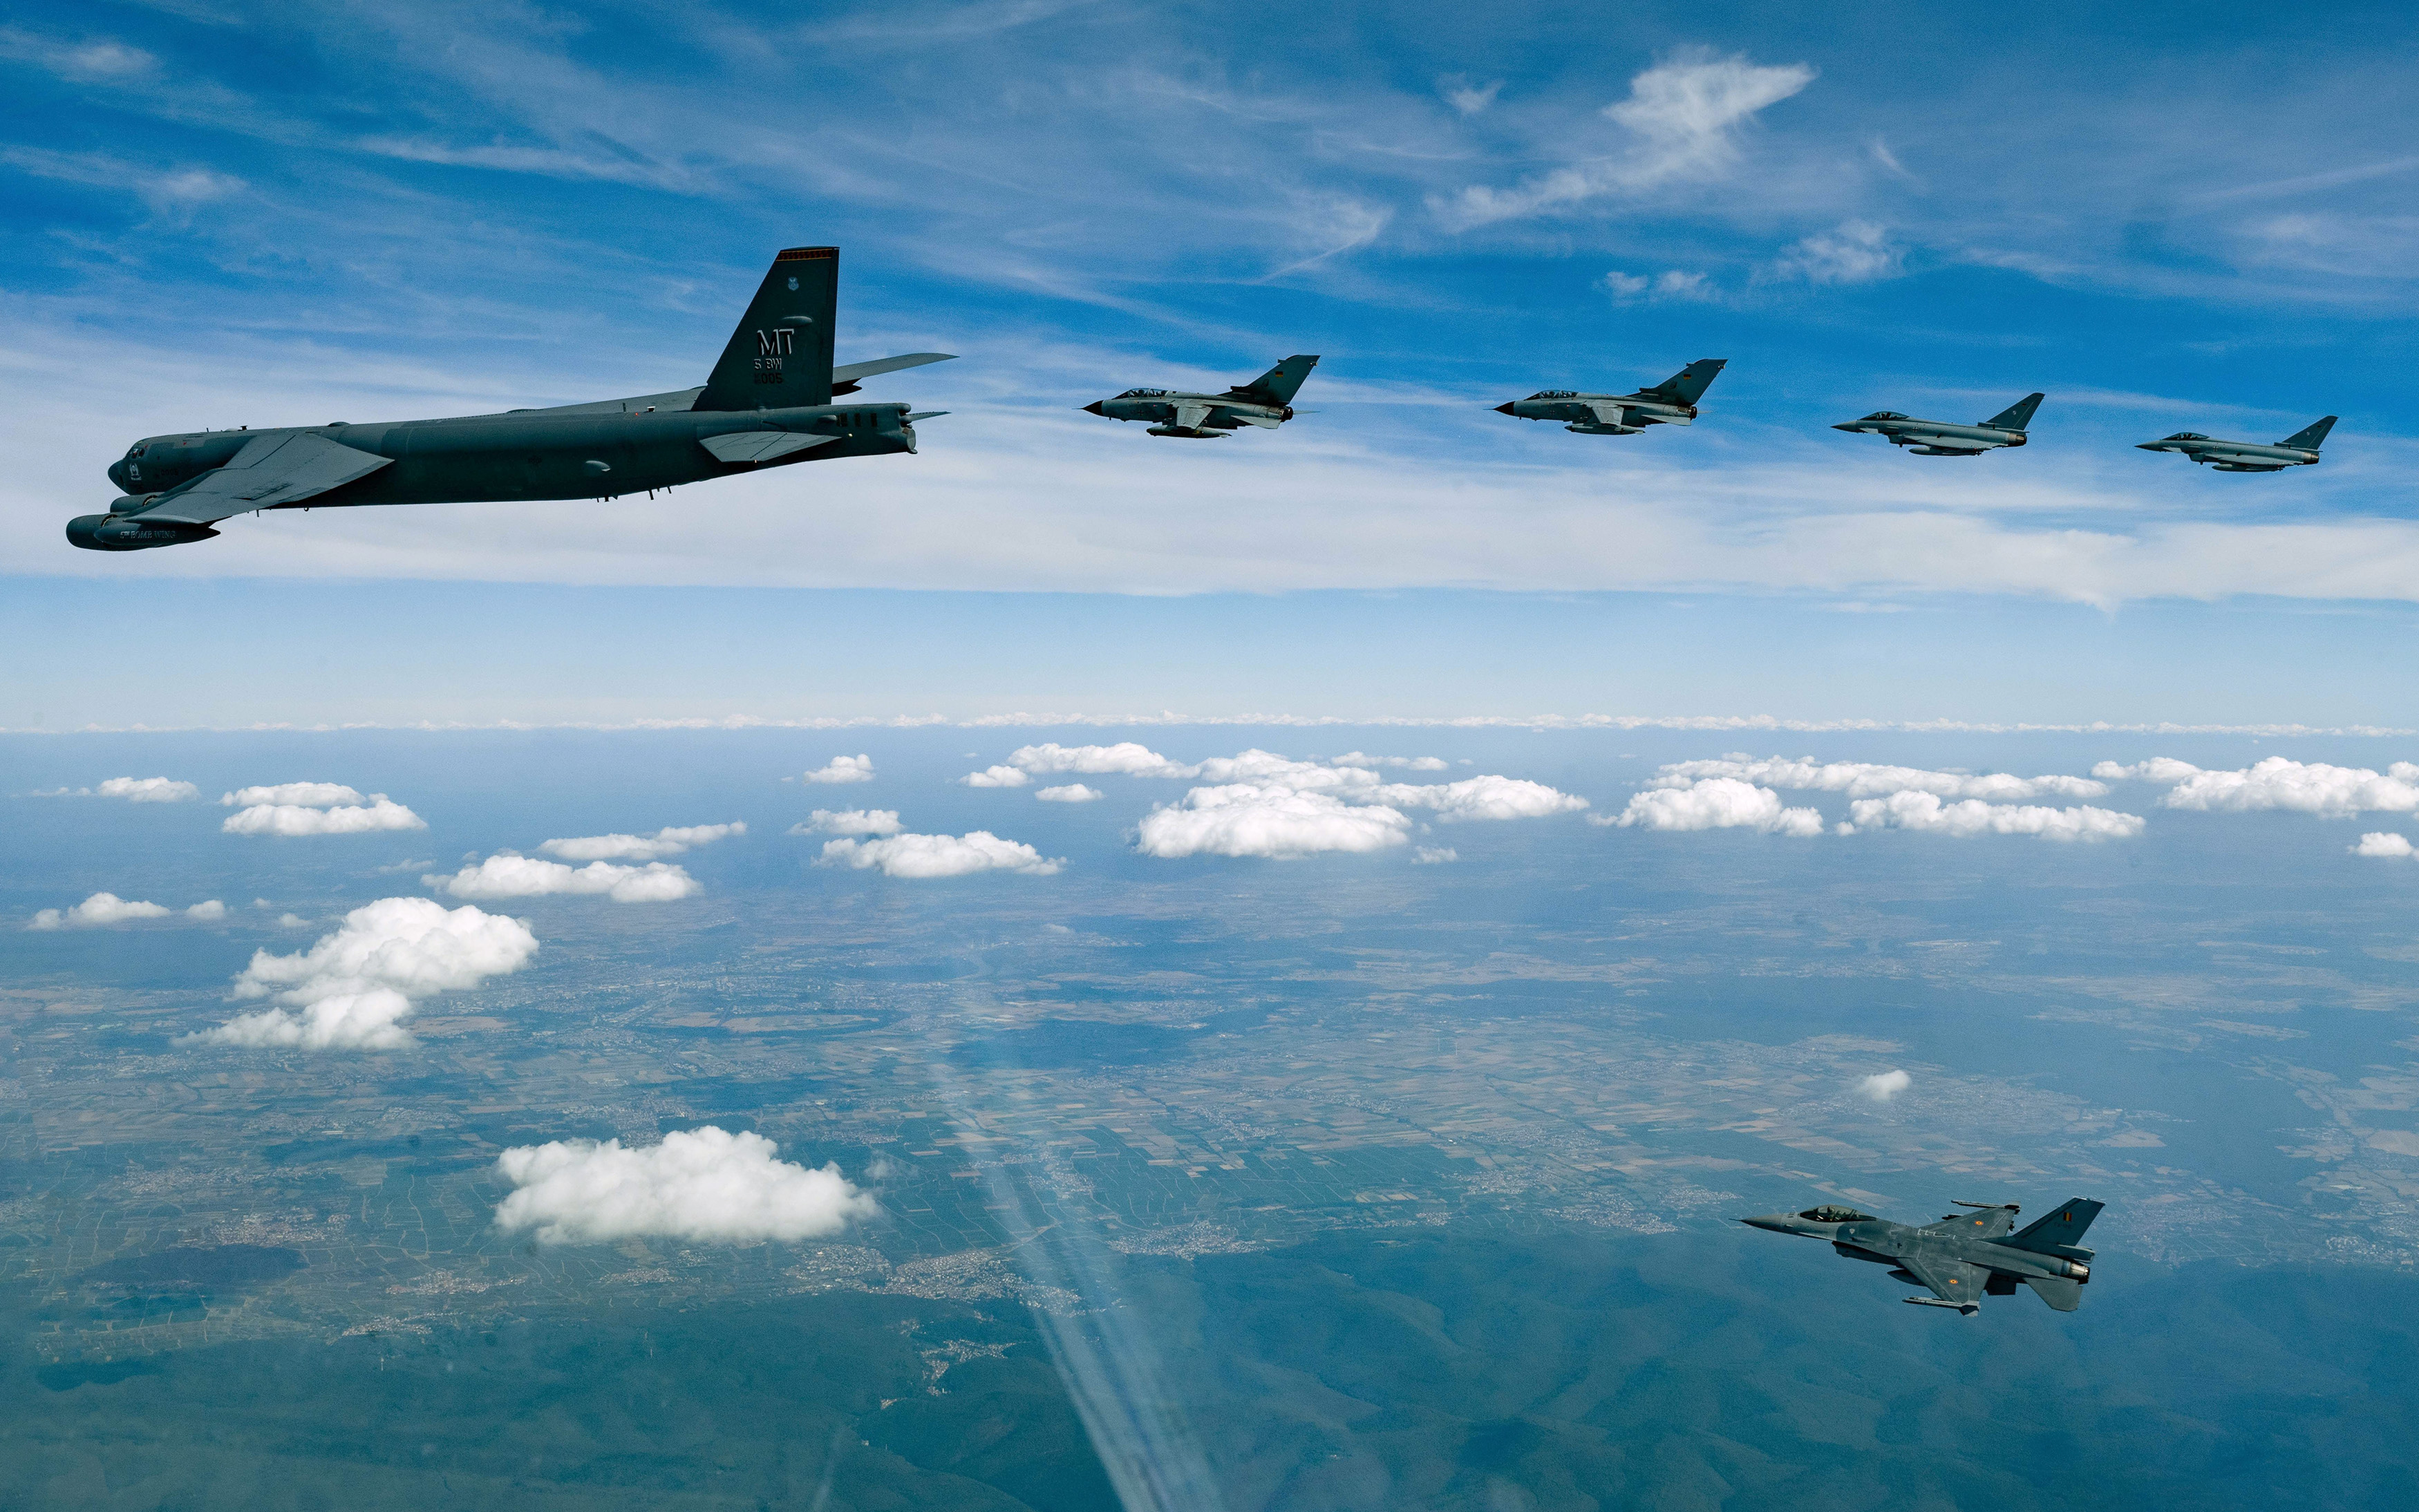airplane: (66, 246, 961, 552), (1728, 1197, 2107, 1317), (1071, 354, 1322, 439), (1482, 357, 1729, 435), (1829, 392, 2045, 456), (2133, 415, 2339, 472)
